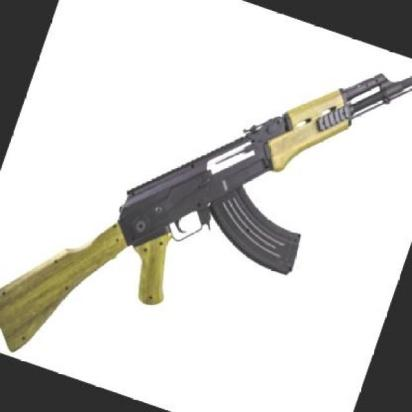Gun: (0, 72, 412, 354)
